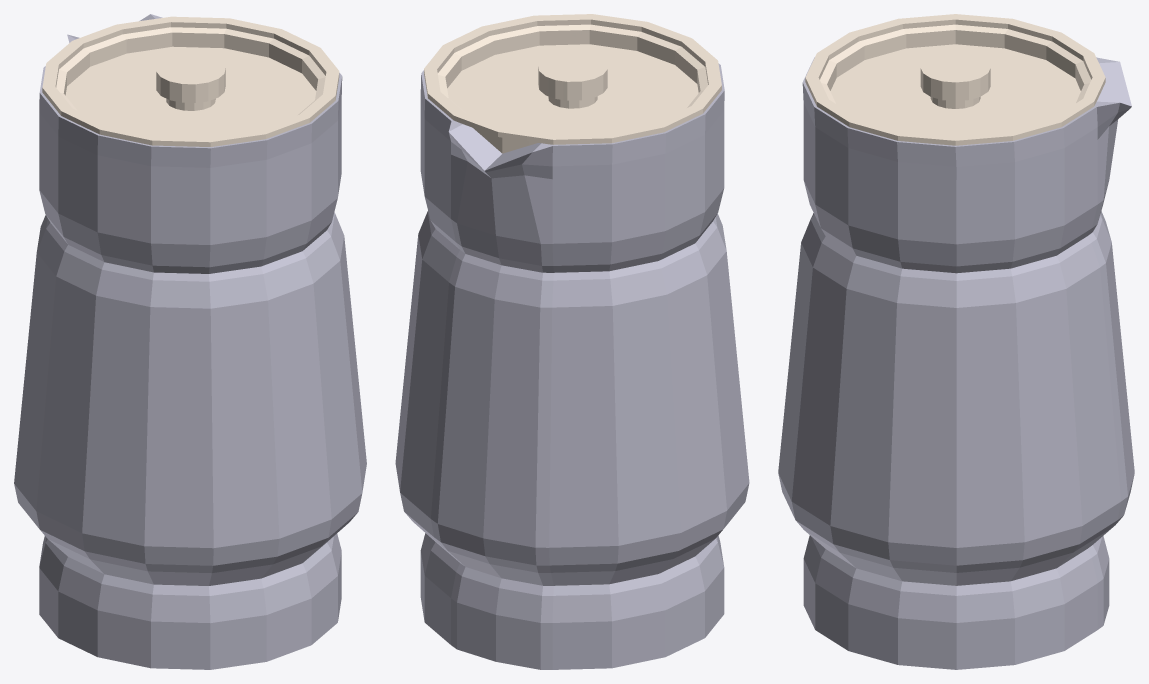
File: Water.fbx
The picture shows the model from 3 angles, left to right: view 1: azimuth 30°, elevation 25°; view 2: azimuth 150°, elevation 25°; view 3: azimuth 270°, elevation 25°; orthographic projection.
Visible parts, largest first — view 1: WATER; view 2: WATER; view 3: WATER.
Part boxes in pixels (x1,y1,x2,y2): WATER: (14, 14, 366, 669); WATER: (395, 14, 749, 669); WATER: (778, 14, 1134, 669).
Bounding box in the file's own units: 5.36 × 8.92 × 5.36.
